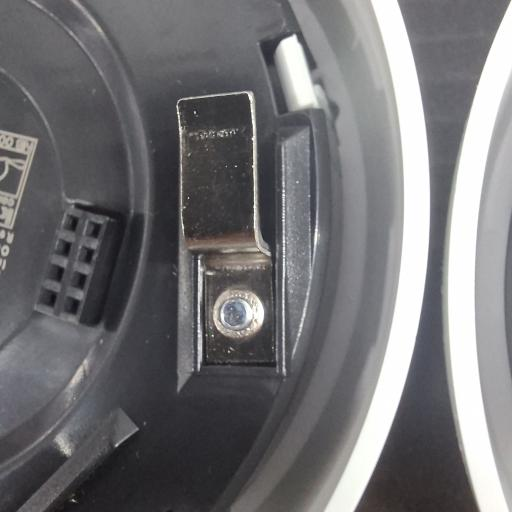yaysiz: (174, 90, 280, 373)
